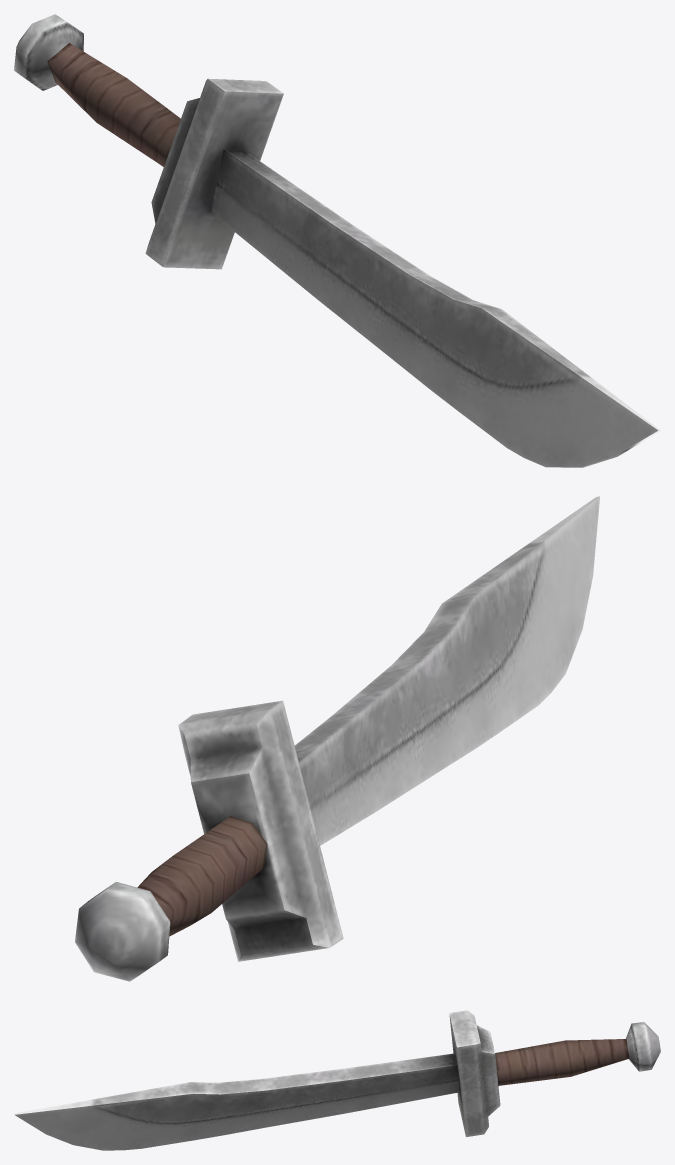
File: weapon-base.glb
The picture shows the model from 3 angles, top to bottom: view 1: azimuth 30°, elevation 25°; view 2: azimuth 150°, elevation 25°; view 3: azimuth 270°, elevation 25°; orthographic projection. The views are drawn at different scales.
Bounding box in the file's own units: 0.1622 × 0.1969 × 0.9279.
Materials: 1 (1 with a texture image).
